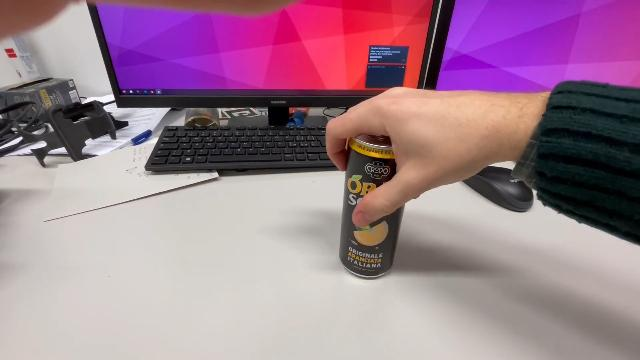OranSoda: (336, 127, 406, 283)
